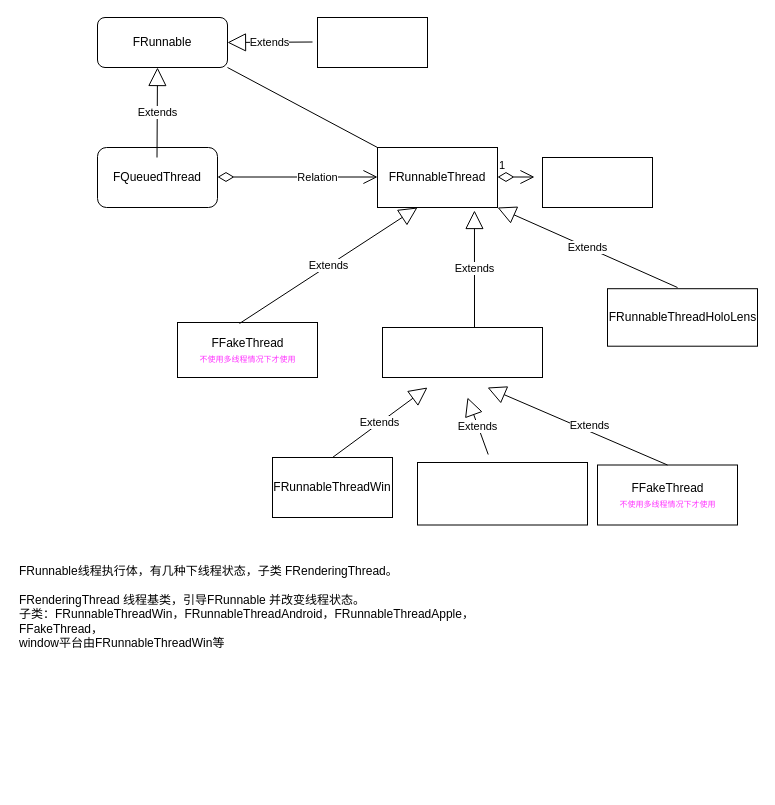
The diagram is 775 pixels wide and 805 high, and some of its shapes have lost their labels. The box of each missing label's shape, as (x1, y1, x2, y2) in pixels:
FRenderingThread: (316, 16, 428, 68)
FRunnableThreadAndroid: (416, 462, 588, 525)
FRunnableThreadPThread: (382, 326, 542, 378)
FThreadManager: (542, 156, 652, 208)
